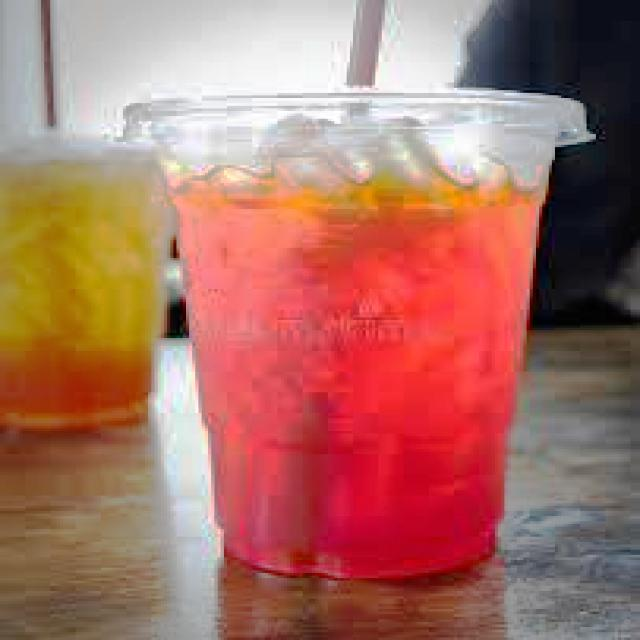drink: (123, 93, 599, 599)
